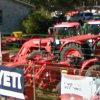Tractor: (21, 19, 97, 71)
